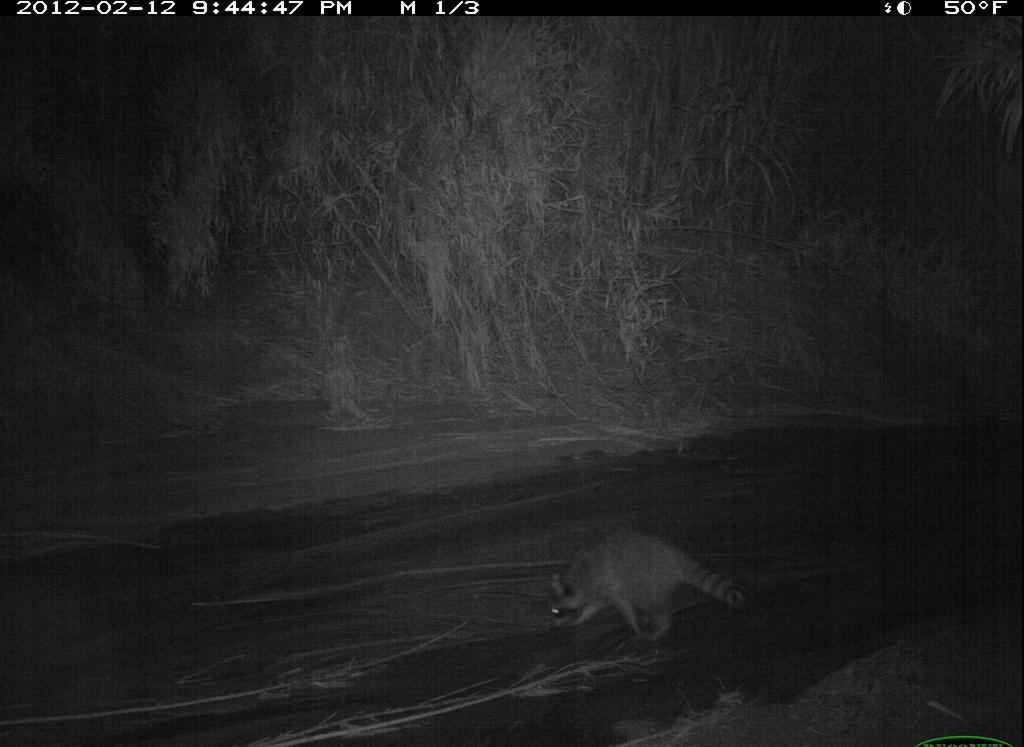raccoon: (539, 519, 771, 657)
